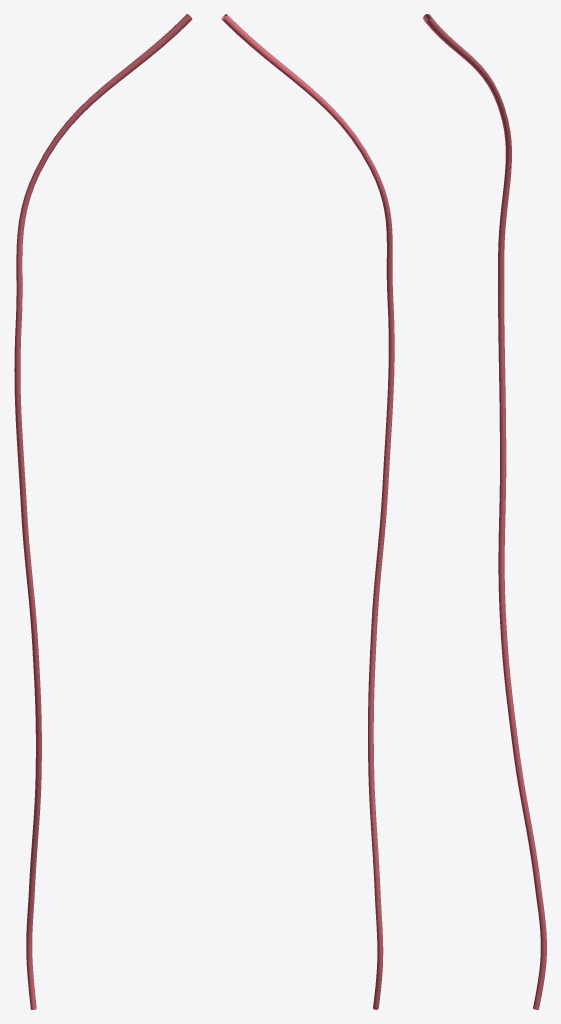
3 views of the same model, side by side, from view 1: azimuth 30°, elevation 25°; view 2: azimuth 210°, elevation 25°; view 3: azimuth 270°, elevation 25° (orthographic). The views are drawn at different scales.
Parts seen in each view (by area): view 1: ZA_0dc9325d3fd89f50; view 2: ZA_0dc9325d3fd89f50; view 3: ZA_0dc9325d3fd89f50.
Part boxes in pixels (x1,y1,x2,y2): ZA_0dc9325d3fd89f50: [14, 14, 192, 1009]; ZA_0dc9325d3fd89f50: [221, 14, 394, 1009]; ZA_0dc9325d3fd89f50: [423, 14, 546, 1009].
Size of the model in its own units: 0.0487 by 0.3315 by 0.0356.
